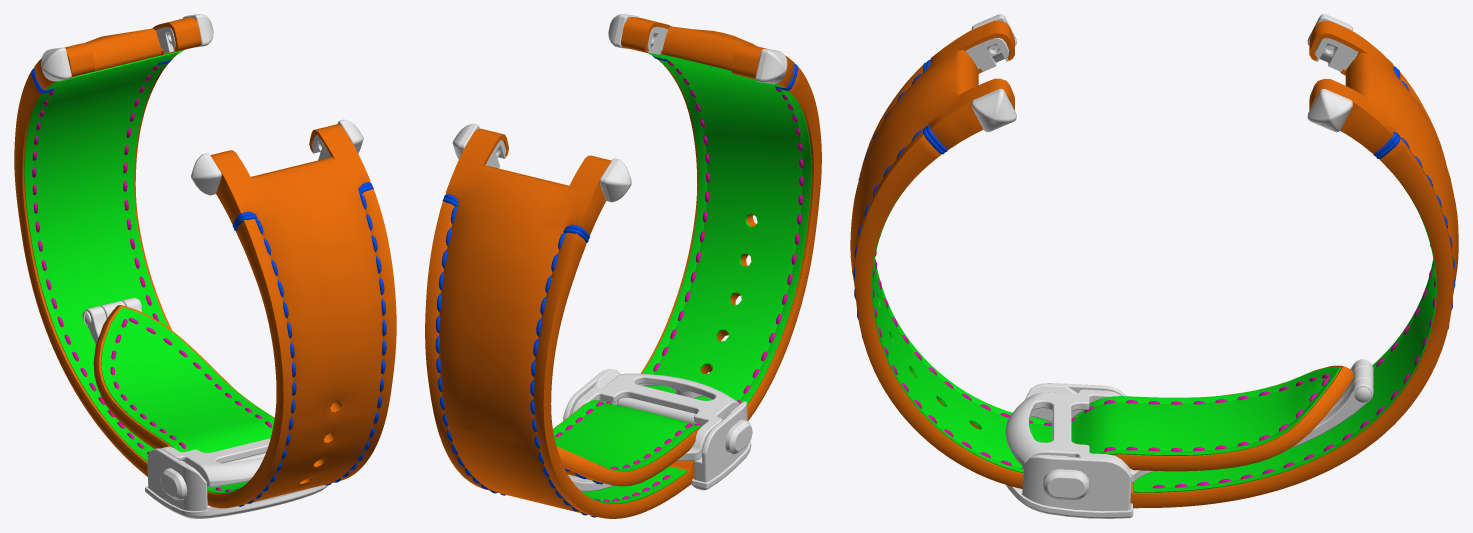
Rendered from Pasha_35_Leather_Strap.fbx.
3 renders of one model, left to right at view 1: azimuth 30°, elevation 25°; view 2: azimuth 150°, elevation 25°; view 3: azimuth 270°, elevation 25°, orthographic. The views are drawn at different scales.
Visible parts, largest first — view 1: 35_TS_Strap_1_Low.002, 35_BS_Strap_1_Low.002, 35_Buckle.001, Brep_1.032; view 2: 35_TS_Strap_1_Low.002, 35_BS_Strap_1_Low.002, 35_Buckle.001, Brep_1.032; view 3: 35_TS_Strap_1_Low.002, 35_BS_Strap_1_Low.002, 35_Buckle.001, Brep_1.032.
Boxes of the visible parts, x1,y1,x2,y2 form: 35_TS_Strap_1_Low.002: (93,124,396,508); 35_BS_Strap_1_Low.002: (14,17,201,476); 35_Buckle.001: (82,297,327,518); Brep_1.032: (41,14,363,195); 35_TS_Strap_1_Low.002: (553,17,821,486); 35_BS_Strap_1_Low.002: (425,128,694,518); 35_Buckle.001: (563,369,752,491); Brep_1.032: (452,14,787,202); 35_TS_Strap_1_Low.002: (850,20,1353,488); 35_BS_Strap_1_Low.002: (1130,21,1458,508); 35_Buckle.001: (1005,359,1373,518); Brep_1.032: (966,14,1358,132).
Size of the model in its own units: 2.48 by 5.38 by 6.89.
